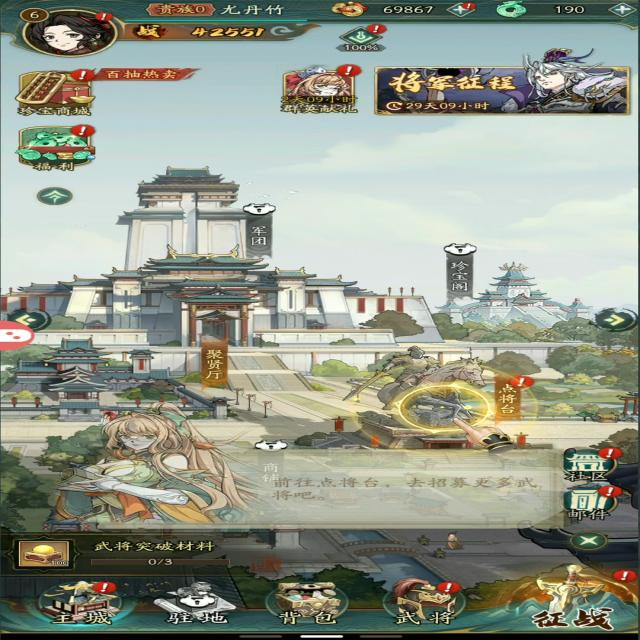hint-guide: (82, 419, 560, 536), (413, 379, 492, 424), (50, 584, 118, 623)
hint-reddot: (71, 66, 100, 88), (66, 121, 99, 137), (592, 447, 624, 463), (337, 61, 363, 80), (509, 371, 535, 389), (599, 486, 623, 501), (368, 21, 388, 36), (438, 580, 460, 593), (611, 570, 634, 582), (95, 10, 112, 24), (459, 2, 482, 11)
navigation-bag: (260, 576, 347, 627)
navigation-community: (549, 444, 623, 482)
navigation-dianjiangtai: (350, 350, 552, 436)
navigation-fight: (500, 566, 637, 635)
navigation-hero: (380, 573, 472, 626)
navigation-juntuan-off: (114, 157, 303, 313)
navigation-juxianting: (9, 335, 246, 404)
navigation-mail: (555, 482, 618, 522)
navigation-main: (31, 577, 138, 628)
navigation-role: (13, 6, 123, 64)
navigation-station-off: (159, 580, 230, 627)
navigation-treasureMall: (11, 69, 110, 118)
navigation-welfare: (8, 124, 124, 173)
navigation-zhenbaoge-off: (421, 235, 591, 342)
operation-TaskCollection: (17, 535, 250, 579)
operation-Vip: (141, 2, 214, 20)
operation-close: (28, 183, 79, 210), (556, 534, 607, 550)
operation-confirm: (565, 304, 636, 336), (5, 307, 54, 330)
operation-jiangjunzhengcheng: (378, 60, 630, 121)
operation-qunyingxianli: (273, 64, 367, 120)
operation-resourceDownload: (329, 23, 386, 53)
